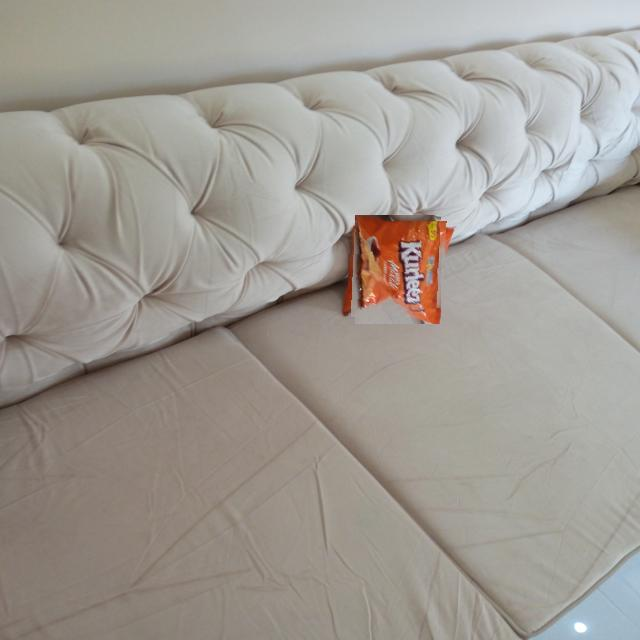Plastic: (348, 221, 447, 318)
